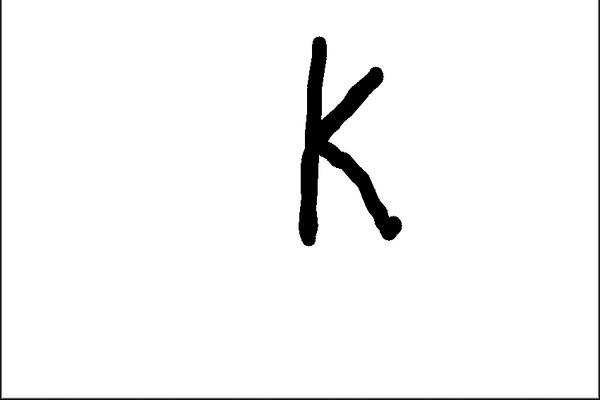K: (289, 29, 409, 245)
